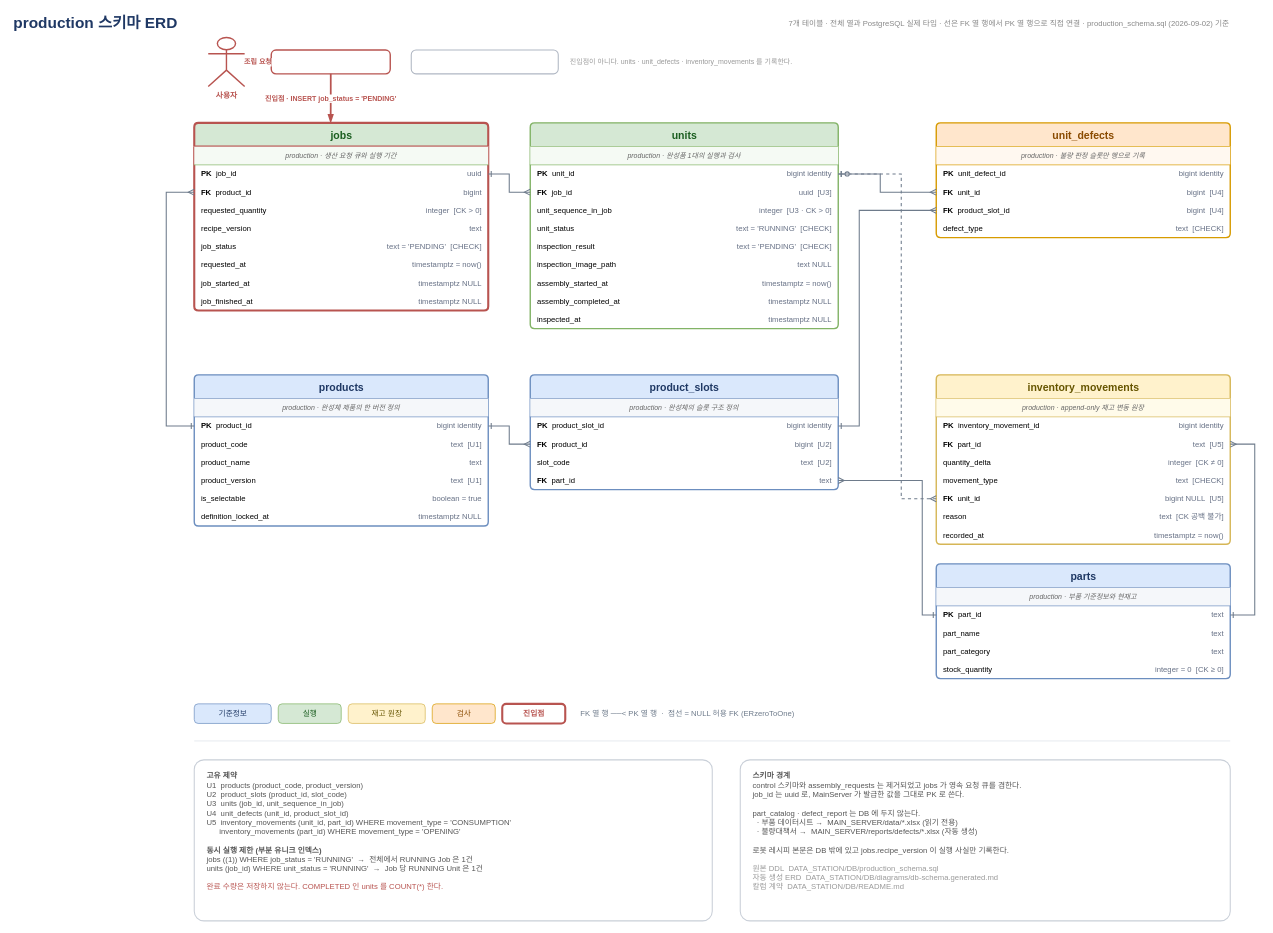
The diagram is 1273 pixels wide and 933 high, and some of its shapes have lost their labels. Here are the shapes that lost their labels. From the top down, the centre of each, then its label:
At (x=330, y=61): "MainServer".
At (x=484, y=61): "AssemblySequencer".
